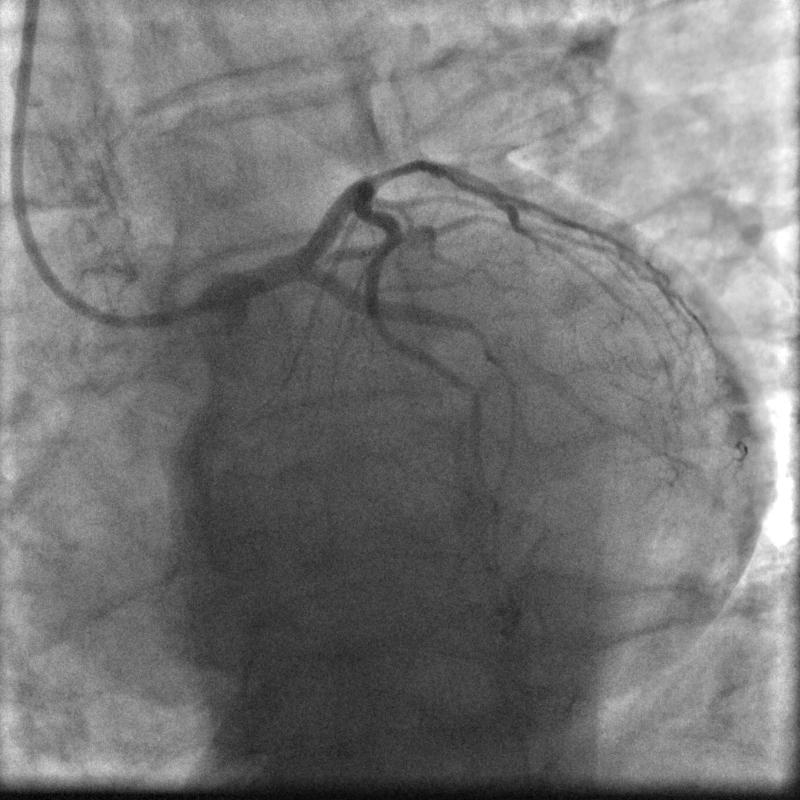Stenosis: (364, 148, 428, 189)
